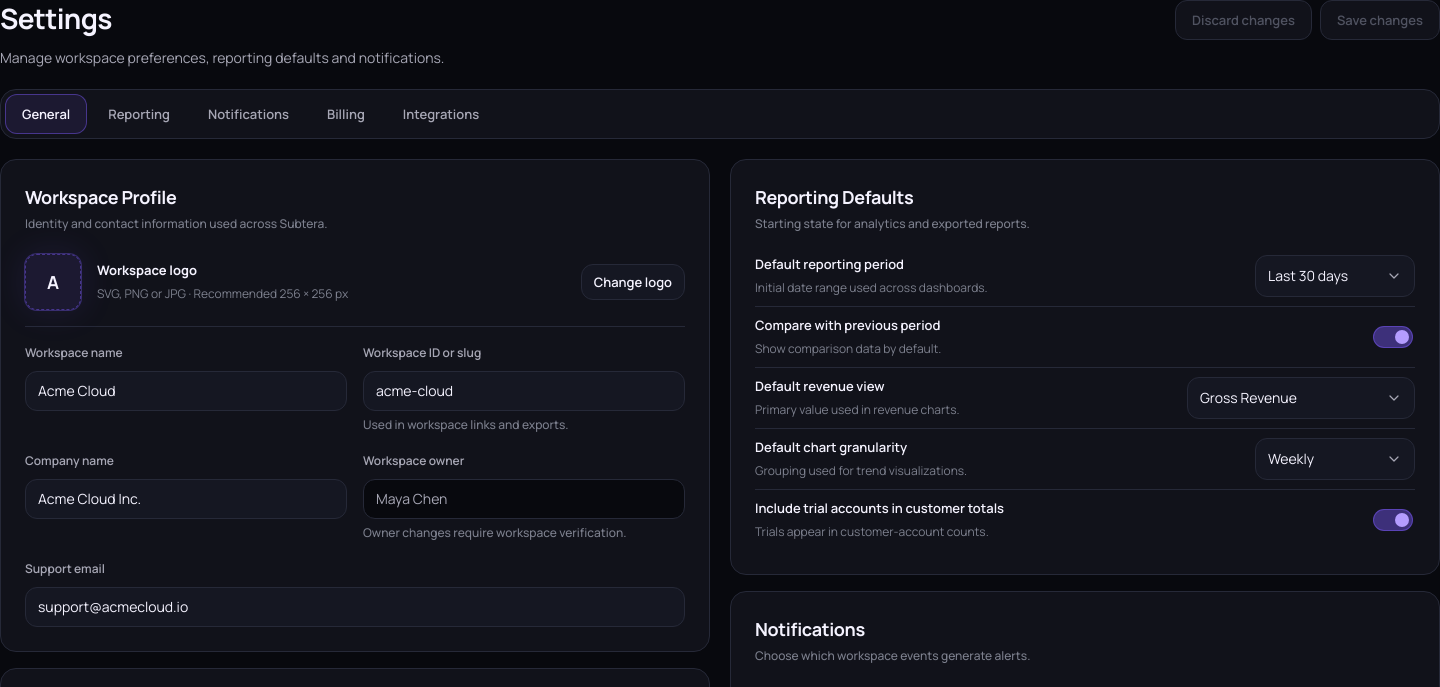
SettingsDashboard › preserves the latest saved baseline through rapid invalid edit and discard
Replace the text in the field labelled "Workspace name" with "Acme Studio" at (186, 391), box top-left (38, 380), bottom-right (334, 402)
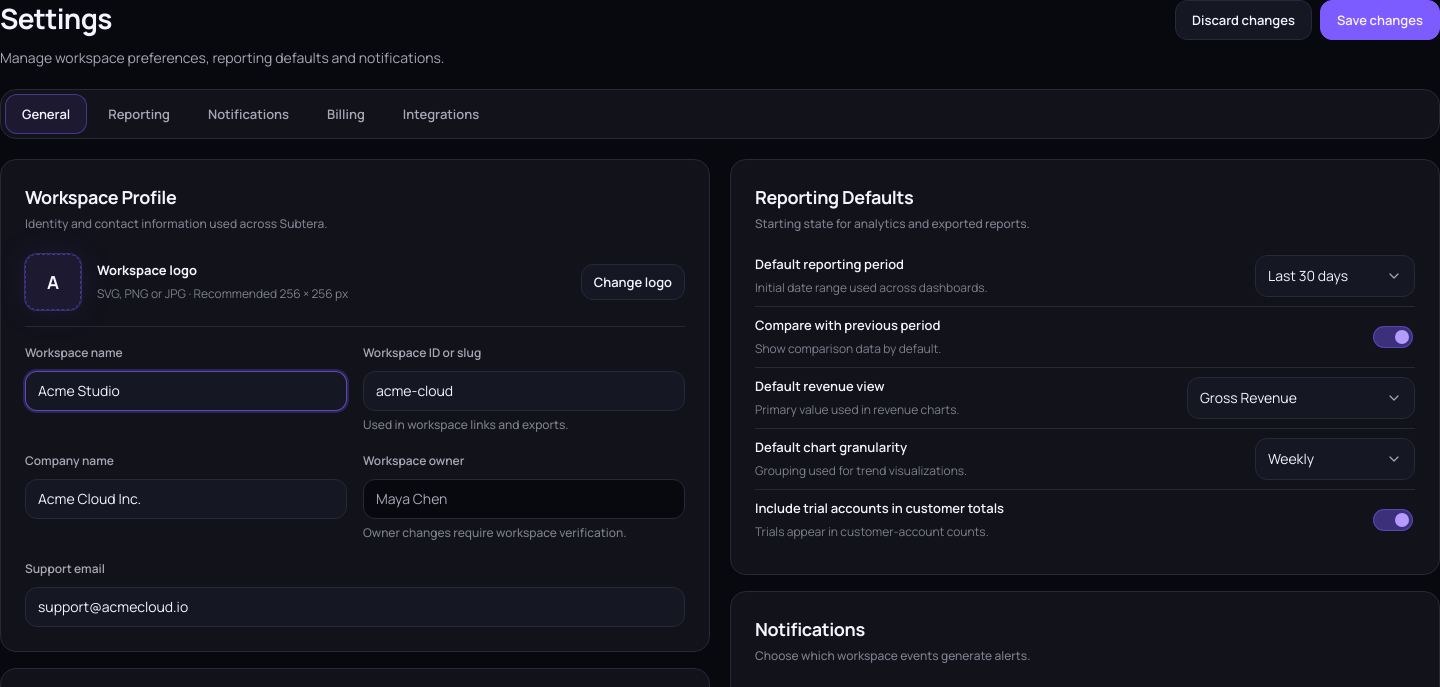
expect the button "Save changes" is enabled: met
Click the button "Save changes" at (1380, 20), box top-left (1320, 0), bottom-right (1439, 40)
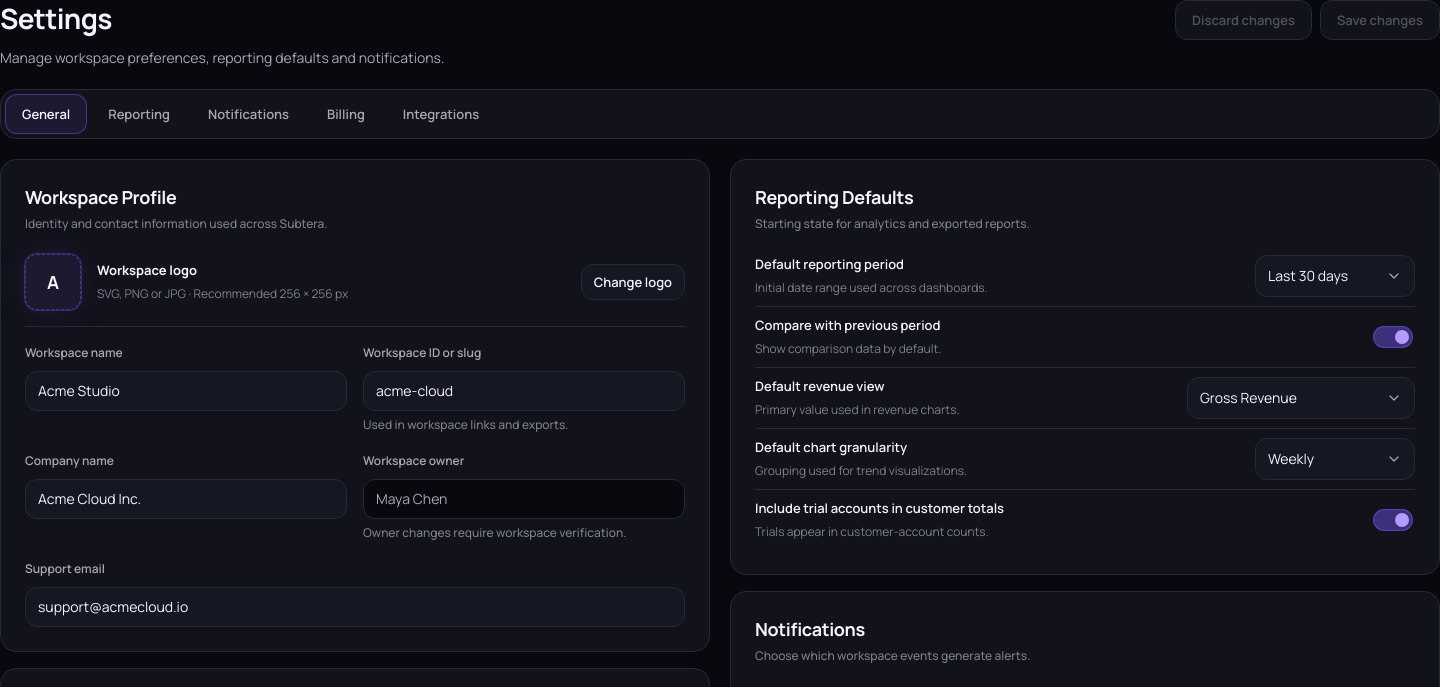
expect the button "Save changes" is disabled: met, box top-left (1320, 0), bottom-right (1439, 40)
expect the button "Discard changes" is disabled: met, box top-left (1175, 0), bottom-right (1312, 40)
Replace the text in the field labelled "Workspace ID or slug" with "Not URL Safe" at (524, 391), box top-left (376, 380), bottom-right (672, 402)
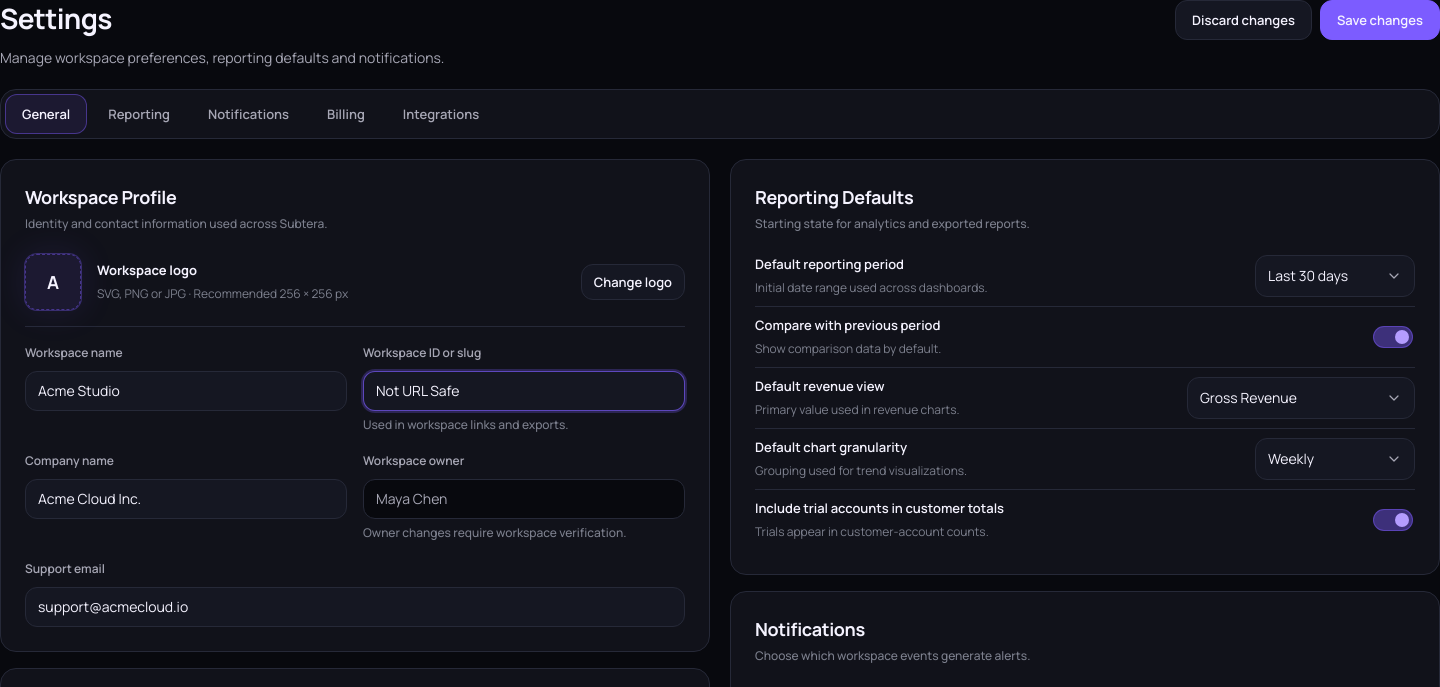
expect the button "Save changes" is enabled: met
expect the button "Discard changes" is enabled: met, box top-left (1175, 0), bottom-right (1312, 40)
Click the button "Save changes" at (1380, 20), box top-left (1320, 0), bottom-right (1439, 40)
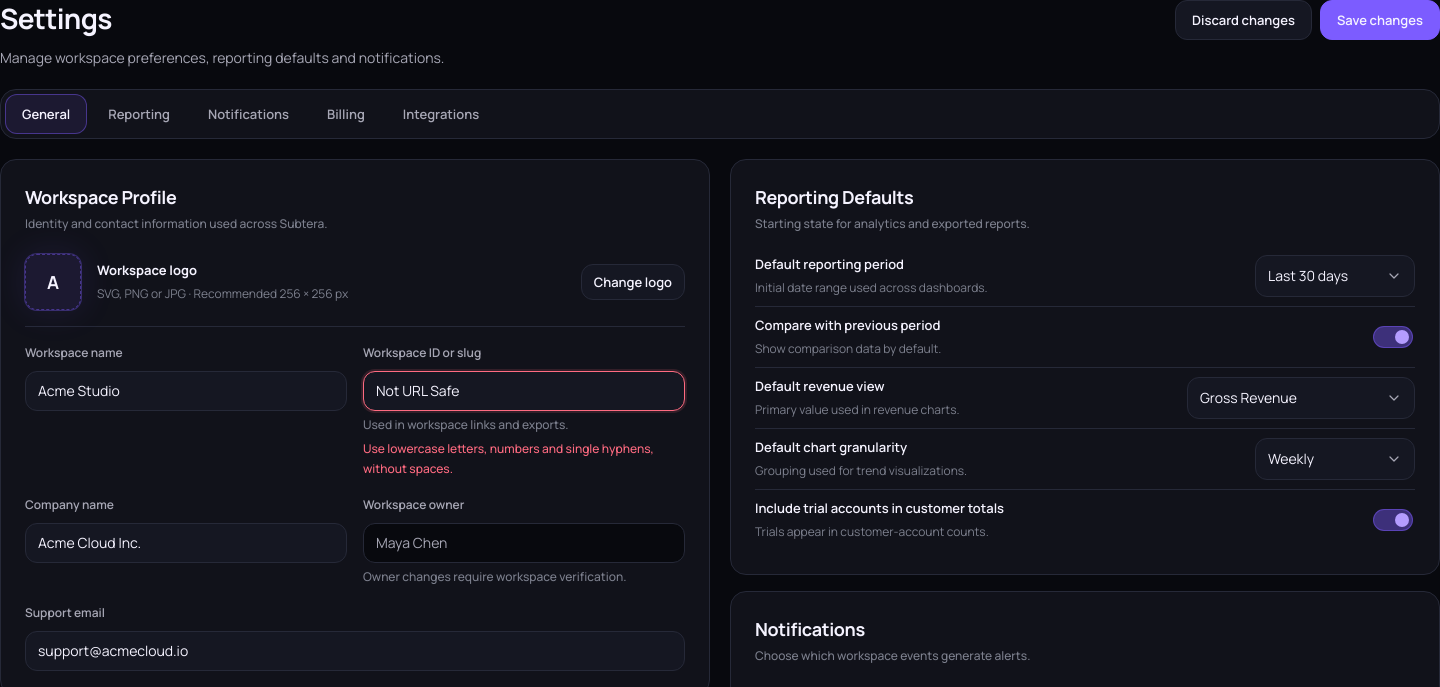
expect the text "Use lowercase letters, numbers and single hyphens" is shown: met, box top-left (363, 440), bottom-right (654, 477)
Click the button "Discard changes" at (1244, 20), box top-left (1175, 0), bottom-right (1312, 40)
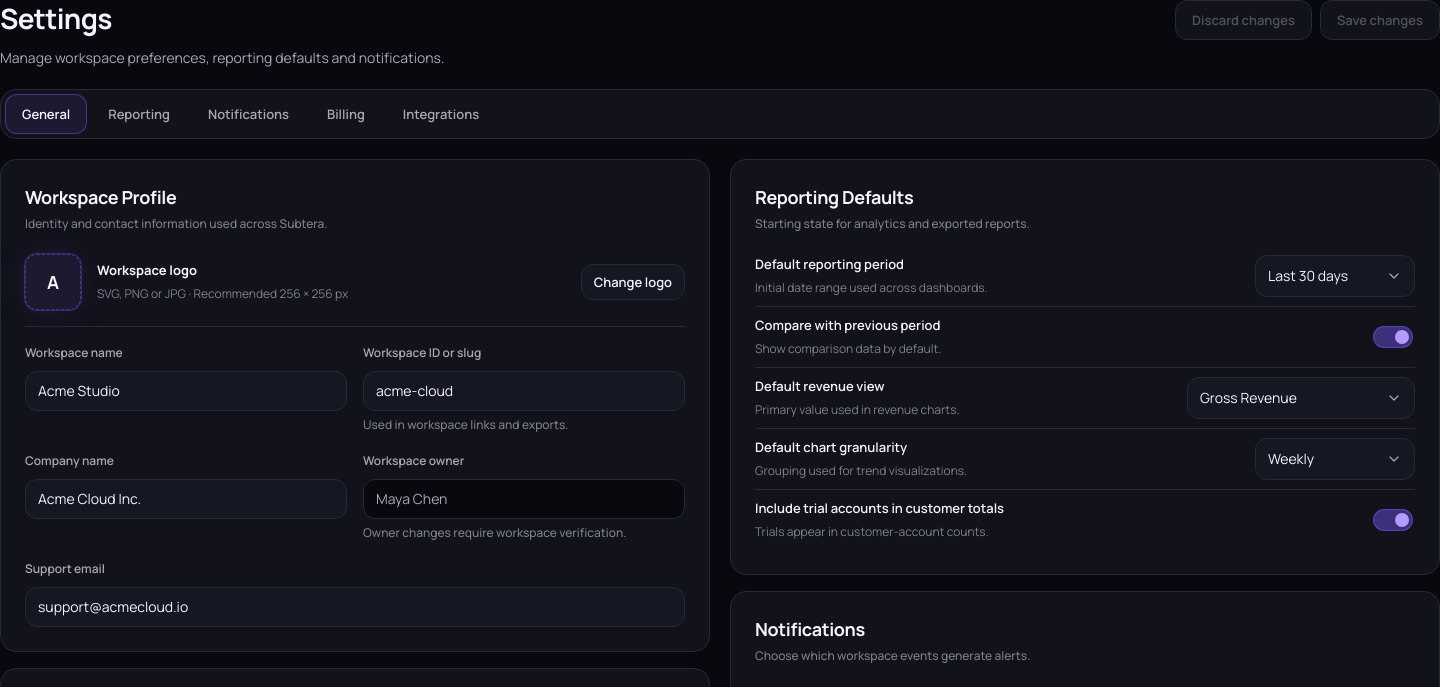
expect the field labelled "Workspace ID or slug" holds "acme-cloud": met, box top-left (376, 380), bottom-right (672, 402)
expect the button "Save changes" is disabled: met, box top-left (1320, 0), bottom-right (1439, 40)
expect the button "Discard changes" is disabled: met, box top-left (1175, 0), bottom-right (1312, 40)
